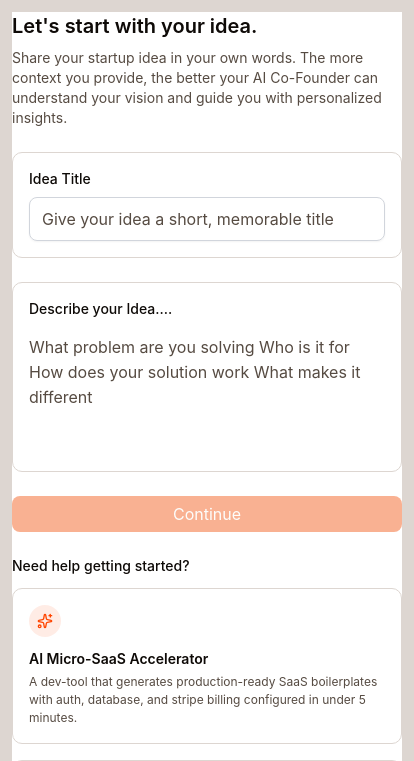
IdeaInputForm › disables Continue until both title and description are filled in
Expected: the button "Continue" is disabled, [12,496,402,532]
In the field labelled "Idea Title": coordinates (207, 219) [29,197,385,241], type "Inventory AI"
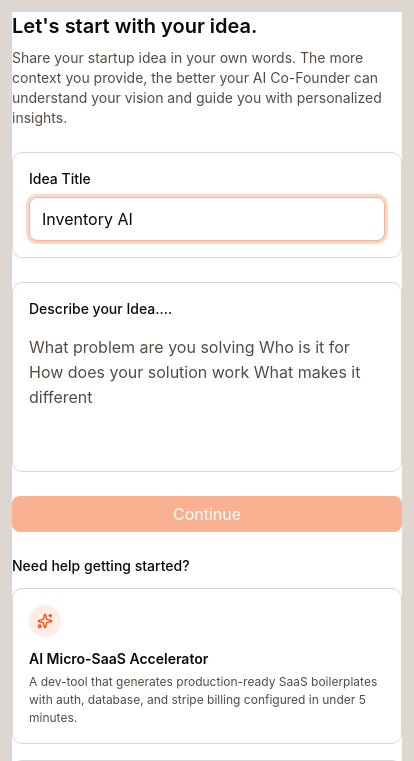
Expected: the button "Continue" is disabled, [12,496,402,532]
In the text box labelled "Describe your Idea….": coordinates (207, 391) [29,327,385,455], type "Forecasting tool"
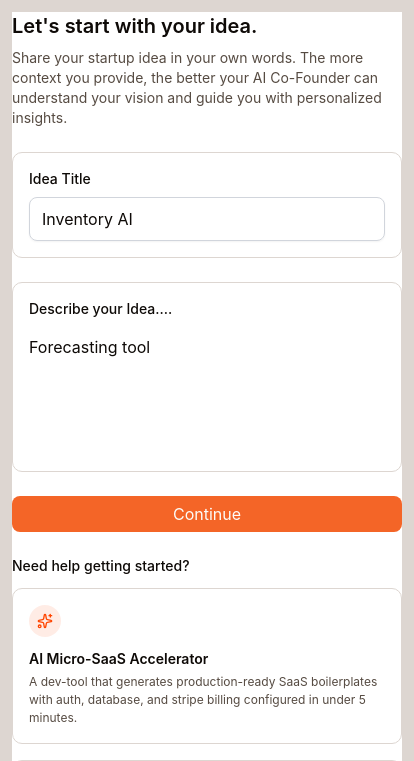
Now the button "Continue" is enabled, box [12,496,402,532]
